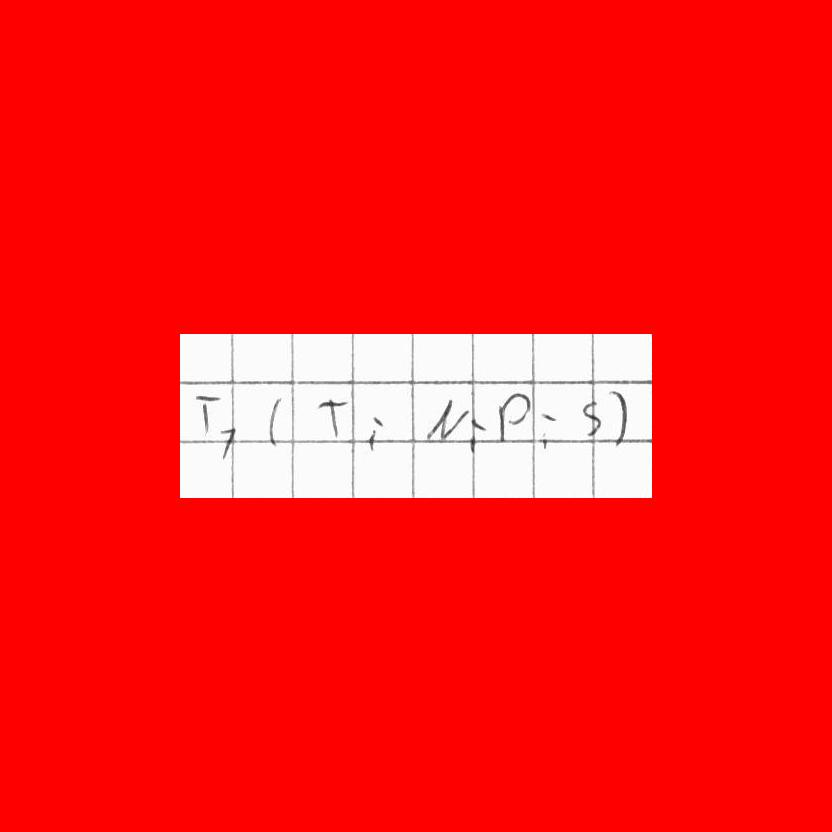Char: (425, 395, 466, 445), (494, 393, 529, 444), (319, 394, 351, 439), (607, 386, 628, 448), (195, 391, 221, 439), (267, 395, 286, 449), (537, 408, 558, 452), (581, 400, 603, 440), (364, 413, 385, 454), (466, 415, 484, 454), (219, 424, 238, 460)
